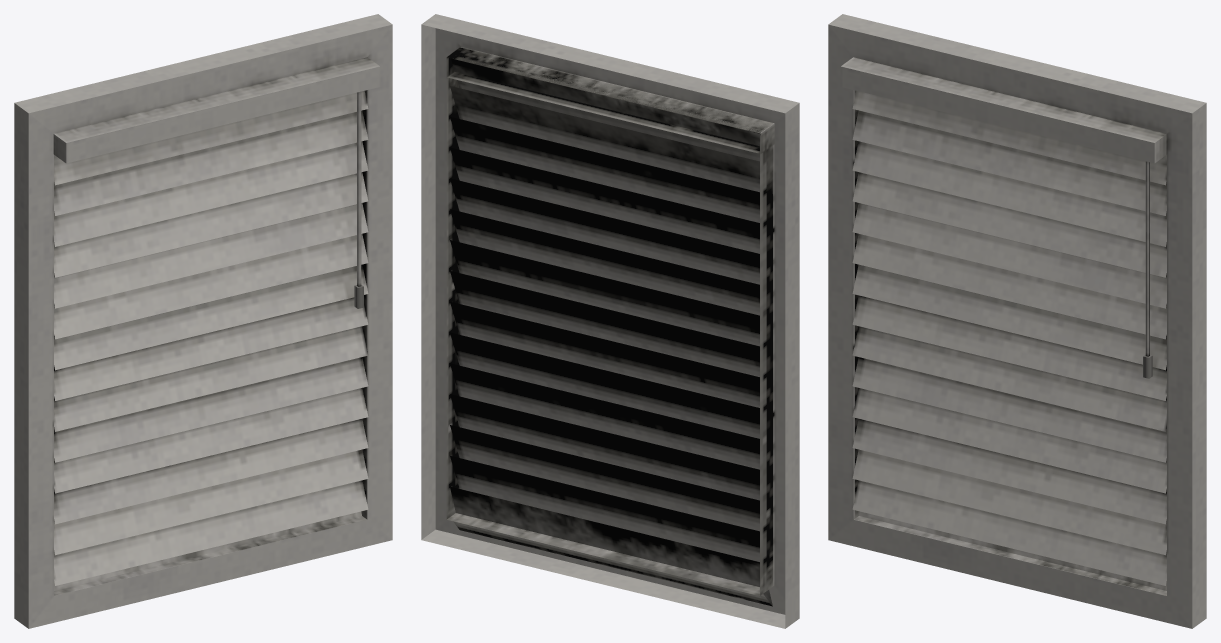
Rendered from window.fbx.
The picture shows the model from 3 angles, left to right: view 1: azimuth 30°, elevation 25°; view 2: azimuth 150°, elevation 25°; view 3: azimuth 330°, elevation 25°; orthographic projection.
Visible parts, largest first — view 1: window; view 2: window; view 3: window.
Part boxes in pixels (x1,y1,x2,y2): window: [14, 14, 392, 628]; window: [421, 14, 799, 628]; window: [828, 14, 1206, 628].
Bounding box in the file's own units: 104 × 140 × 13.28.
Materials: 1 (1 with a texture image).
